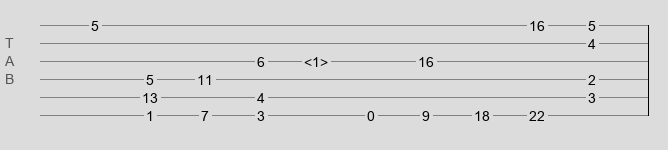0: (367, 108, 375, 118)
1: (146, 108, 154, 118)
11: (197, 72, 213, 82)
13: (142, 90, 158, 100)
16: (418, 54, 434, 64), (529, 18, 545, 28)
18: (474, 108, 490, 118)
2: (588, 72, 596, 82)
22: (529, 108, 545, 118)
3: (257, 108, 265, 118), (588, 90, 596, 100)
4: (257, 90, 265, 100), (588, 36, 596, 46)
5: (91, 18, 99, 28), (146, 72, 154, 82), (588, 18, 596, 28)
6: (257, 54, 265, 64)
7: (201, 108, 209, 118)
9: (422, 108, 430, 118)
harmonic: (304, 54, 328, 64)
